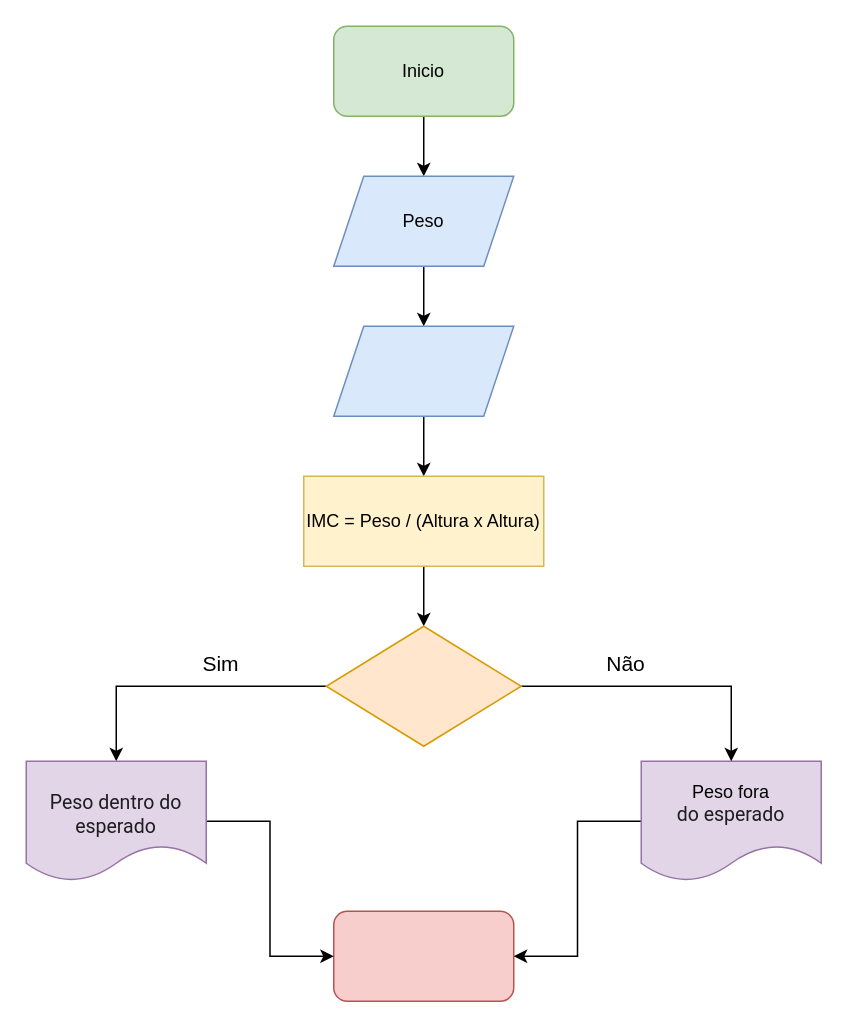
Some shapes in this 848 by 1028 pixel diagram are drawn without their labels. Here are the shapes that lost their labels. From the top down, the centre of each, then its label:
[423,370]: Altura
[423,685]: IMC = Entre 18 e 25
[423,955]: Fim
